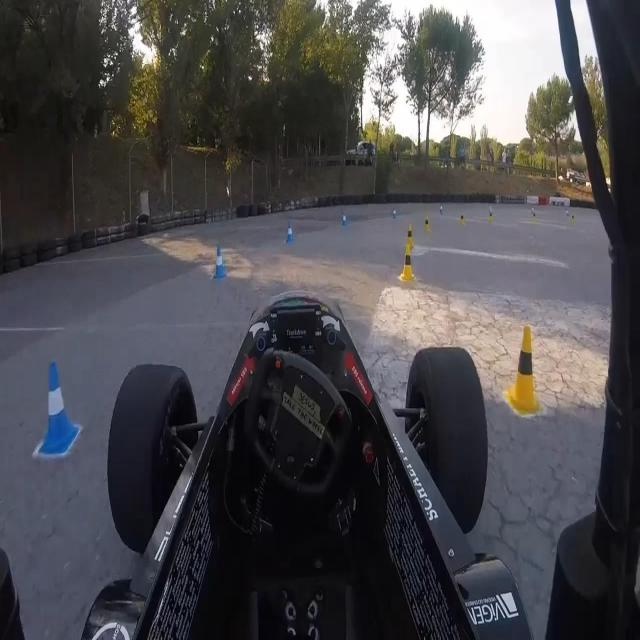blue_cone: (34, 360, 74, 459), (213, 244, 226, 279), (286, 220, 293, 242), (340, 206, 347, 226), (391, 205, 398, 222), (439, 201, 444, 217)
yellow_cone: (506, 326, 539, 417), (400, 243, 414, 281), (405, 221, 413, 247), (422, 212, 430, 234), (458, 209, 464, 224)
